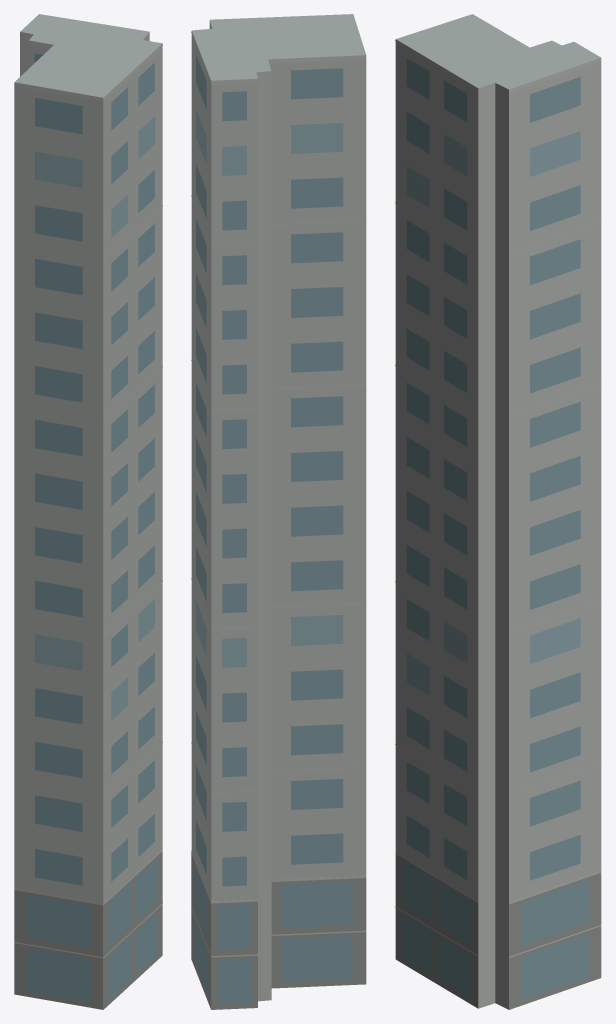
The model's file is survey-upis-32659398.glb.
The picture shows the model from 3 angles, left to right: view 1: azimuth 30°, elevation 25°; view 2: azimuth 150°, elevation 25°; view 3: azimuth 270°, elevation 25°; orthographic projection.
Parts seen in each view (by area): view 1: survey-upis-32659398.tmp; view 2: survey-upis-32659398.tmp; view 3: survey-upis-32659398.tmp.
Boxes of the visible parts, x1=… form: survey-upis-32659398.tmp: x1=14, y1=14, x2=162, y2=1009; survey-upis-32659398.tmp: x1=191, y1=14, x2=366, y2=1009; survey-upis-32659398.tmp: x1=395, y1=14, x2=601, y2=1009.
Size of the model in its own units: 9.15 by 51.85 by 10.52.
